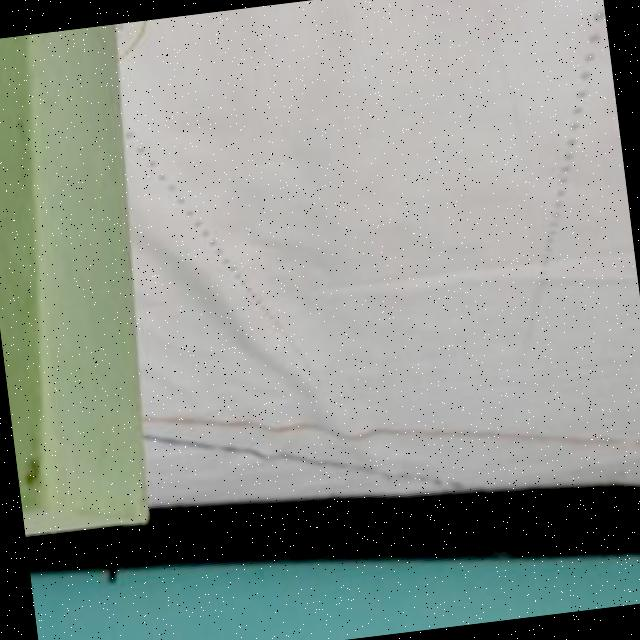greenbox: (0, 23, 175, 544)
